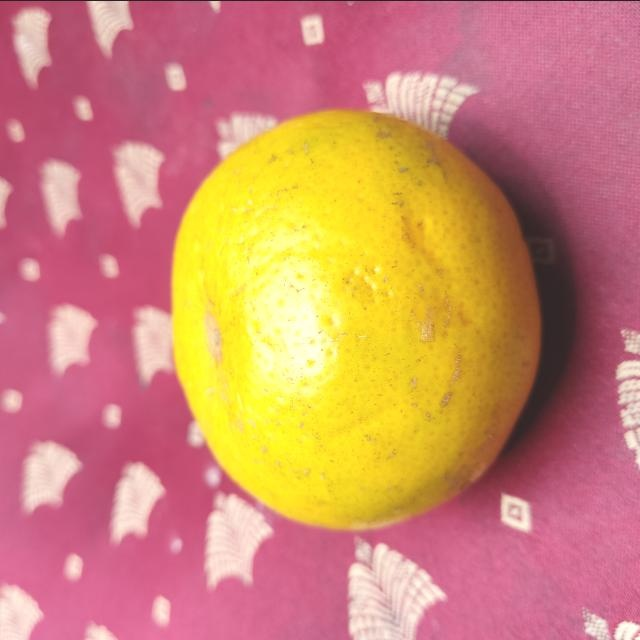agrume: (171, 103, 541, 528)
